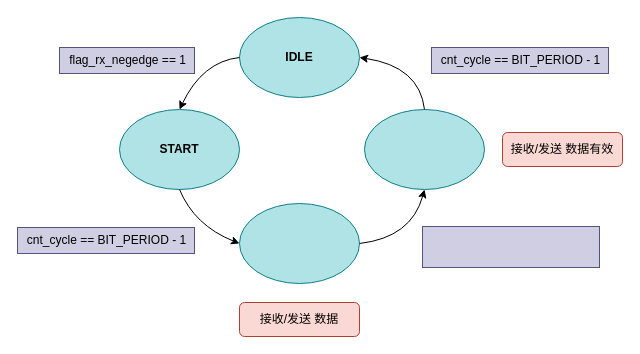
Image size: 640x354. Some labels were removed from this diagram. The centre of each missing label's shape, as x and y in pixels:
cnt_cycle == BIT_PERIOD - 1 cnt_bit == DATA_WIDTH - 1: the point at 511,247
DATA: the point at 299,243
STOP: the point at 424,149
